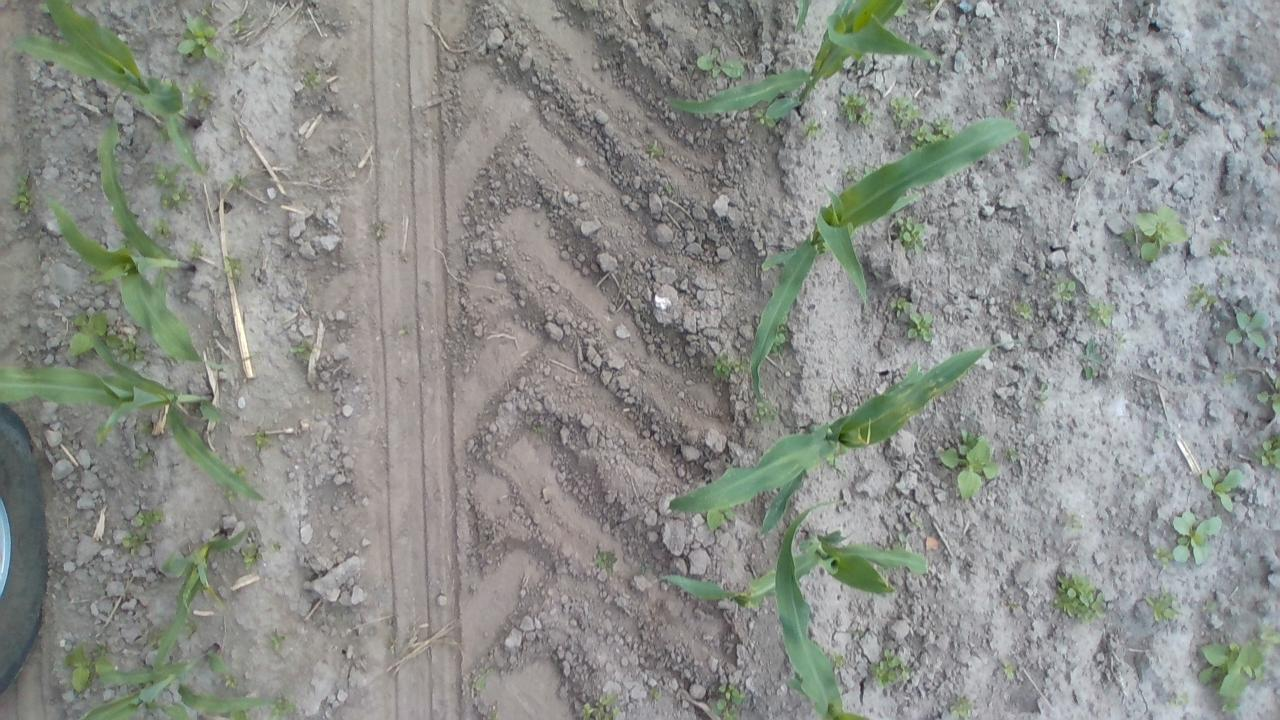Maize: (747, 121, 1032, 399), (668, 340, 1025, 534), (41, 89, 242, 369), (0, 320, 264, 502), (0, 0, 209, 176), (665, 0, 943, 122), (775, 498, 875, 720), (658, 528, 927, 610), (70, 645, 276, 720), (153, 528, 250, 666), (792, 0, 812, 33), (896, 532, 908, 542)
Weeds: (1197, 640, 1273, 714), (938, 429, 999, 499), (1122, 204, 1190, 264), (1172, 510, 1224, 566), (1051, 572, 1107, 622), (63, 642, 114, 693), (178, 14, 228, 66), (1201, 468, 1245, 512), (867, 648, 914, 688), (68, 312, 108, 357), (1224, 311, 1266, 349), (697, 48, 745, 79), (895, 214, 925, 256), (711, 685, 745, 720), (888, 94, 922, 128), (1146, 588, 1180, 622), (838, 93, 875, 124), (106, 332, 145, 361), (580, 693, 620, 720), (10, 173, 36, 214), (909, 124, 947, 152), (1186, 282, 1218, 312), (1255, 432, 1280, 470), (768, 311, 789, 356), (706, 504, 736, 533), (906, 311, 933, 343), (1256, 378, 1280, 414), (1084, 300, 1114, 328), (159, 184, 192, 209), (132, 508, 166, 532), (186, 80, 212, 110), (152, 162, 180, 188), (843, 164, 877, 184), (1078, 338, 1104, 364), (270, 693, 295, 720), (466, 666, 491, 692), (594, 549, 618, 576), (122, 529, 146, 556), (242, 540, 263, 570), (752, 401, 777, 425), (1052, 278, 1076, 302), (710, 354, 733, 378), (890, 296, 914, 319), (950, 697, 973, 720), (1150, 546, 1176, 566), (931, 118, 956, 138), (1258, 624, 1280, 646), (1210, 236, 1232, 258), (289, 339, 311, 361), (152, 216, 172, 240), (252, 428, 272, 452), (39, 0, 71, 14), (1034, 382, 1050, 410), (755, 108, 776, 128), (1011, 300, 1032, 320), (224, 256, 244, 276), (147, 626, 167, 646), (227, 172, 249, 190), (801, 117, 820, 137), (302, 65, 320, 86), (268, 630, 286, 651), (1260, 124, 1278, 144), (1076, 66, 1094, 85), (186, 240, 204, 259), (230, 463, 248, 481), (647, 139, 664, 158), (1001, 658, 1016, 679), (1090, 139, 1108, 156), (1065, 513, 1083, 530), (1002, 444, 1018, 463), (732, 358, 751, 373), (136, 448, 150, 468), (891, 0, 908, 16), (1222, 370, 1238, 386), (156, 126, 171, 142), (182, 618, 197, 634), (224, 673, 238, 690), (1171, 692, 1188, 706), (137, 420, 152, 435), (832, 650, 844, 668), (1004, 97, 1018, 112), (120, 238, 135, 252), (920, 0, 940, 10), (1157, 128, 1169, 144), (222, 488, 235, 502), (1056, 172, 1069, 185), (1084, 364, 1094, 380), (269, 542, 282, 554), (1205, 599, 1218, 611), (650, 686, 661, 700), (1146, 100, 1156, 115), (234, 20, 244, 34), (532, 424, 544, 434), (200, 3, 210, 15), (910, 516, 921, 526), (1009, 600, 1020, 610), (665, 183, 674, 193), (829, 390, 837, 398)
